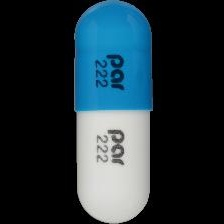54868-3533: (0, 0, 224, 224)
